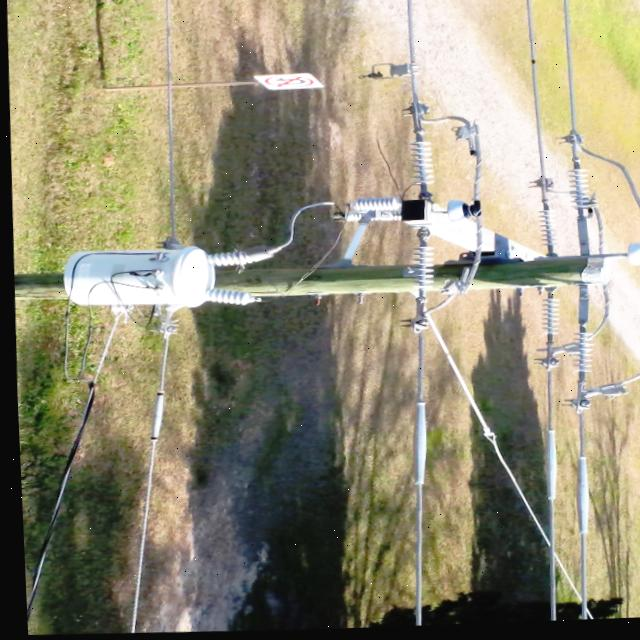poles: (11, 66, 640, 417)
wires: (21, 312, 117, 620), (122, 336, 164, 633), (560, 0, 592, 258), (565, 289, 589, 605), (406, 334, 421, 629), (524, 0, 542, 183), (540, 373, 552, 625), (404, 0, 420, 145), (164, 86, 172, 234), (408, 229, 427, 272), (74, 324, 90, 374), (21, 564, 35, 619), (412, 157, 428, 201), (163, 0, 170, 86), (411, 292, 423, 321)
